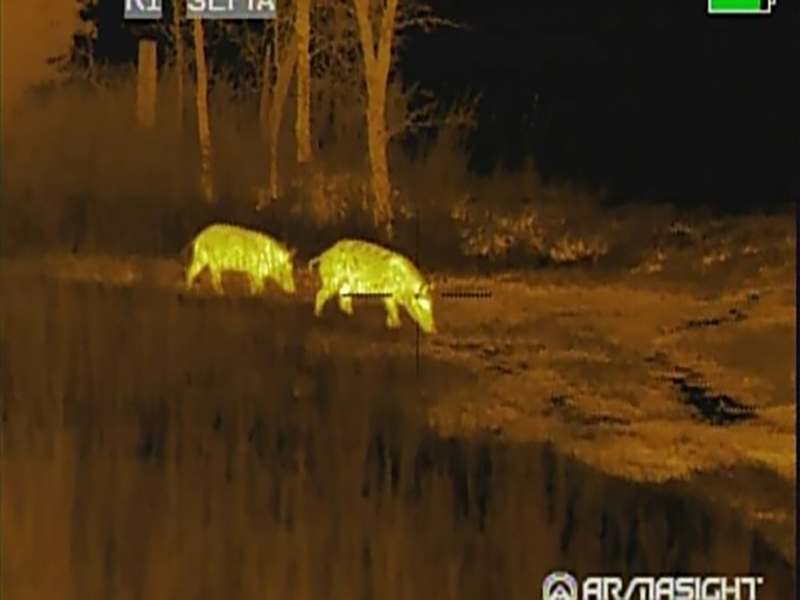cinghiale: (310, 236, 443, 343), (183, 227, 303, 306)
